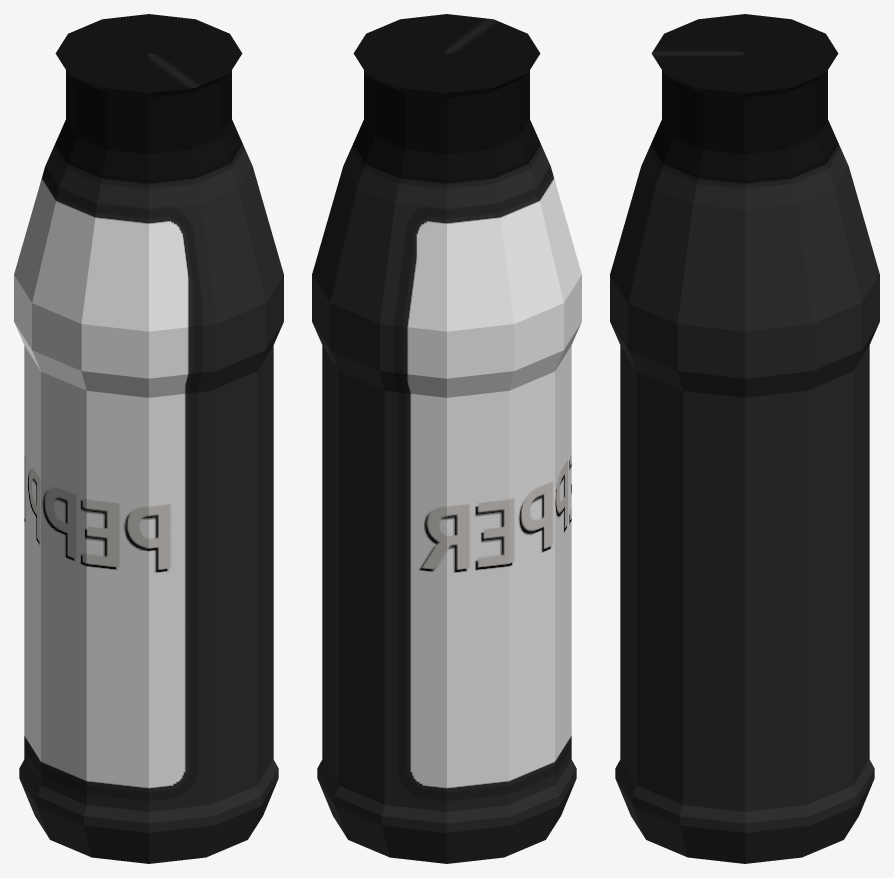
The model's file is grinder_pepper.obj.
3 renders of one model, left to right at view 1: azimuth 30°, elevation 25°; view 2: azimuth 150°, elevation 25°; view 3: azimuth 270°, elevation 25°, orthographic.
Parts seen in each view (by area): view 1: grinder_pepper; view 2: grinder_pepper; view 3: grinder_pepper.
Part boxes in pixels (x1=…): grinder_pepper: x1=14, y1=14, x2=283, y2=863; grinder_pepper: x1=312, y1=14, x2=581, y2=863; grinder_pepper: x1=610, y1=14, x2=879, y2=863.
Size of the model in its own units: 0.052 by 0.162 by 0.052.
Materials: 1 (1 with a texture image).
